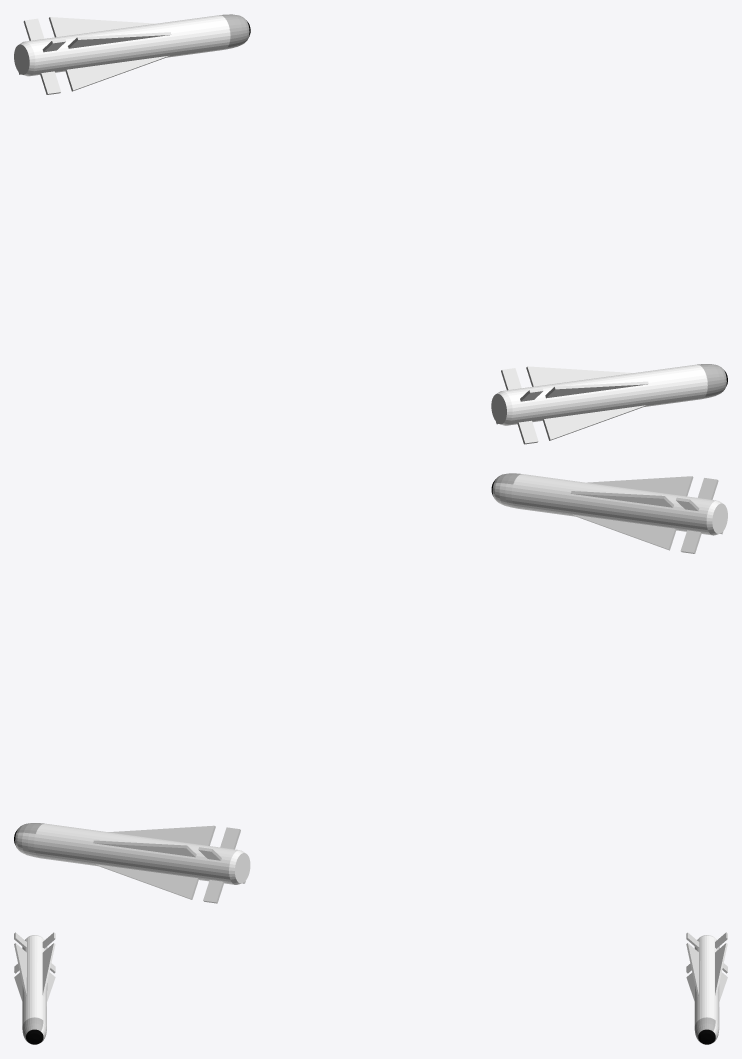
Rendered from a10cagm6529.glb.
3 views of the same model, one above another, from view 1: azimuth 30°, elevation 25°; view 2: azimuth 150°, elevation 25°; view 3: azimuth 270°, elevation 25° (orthographic). The views are drawn at different scales.
Visible parts, largest first — view 1: 立方体.002, 立方体.003; view 2: 立方体.003, 立方体.002; view 3: 立方体.002, 立方体.003.
Boxes of the visible parts, left/top/right/bottom form: 立方体.002: left=14, top=14, right=250, bottom=94; 立方体.003: left=491, top=364, right=727, bottom=444; 立方体.003: left=491, top=473, right=727, bottom=553; 立方体.002: left=14, top=823, right=250, bottom=903; 立方体.002: left=686, top=932, right=727, bottom=1044; 立方体.003: left=14, top=932, right=55, bottom=1044.
Bounding box in the file's own units: 2.52 × 0.6673 × 9.73.
Materials: 1 (1 with a texture image).
